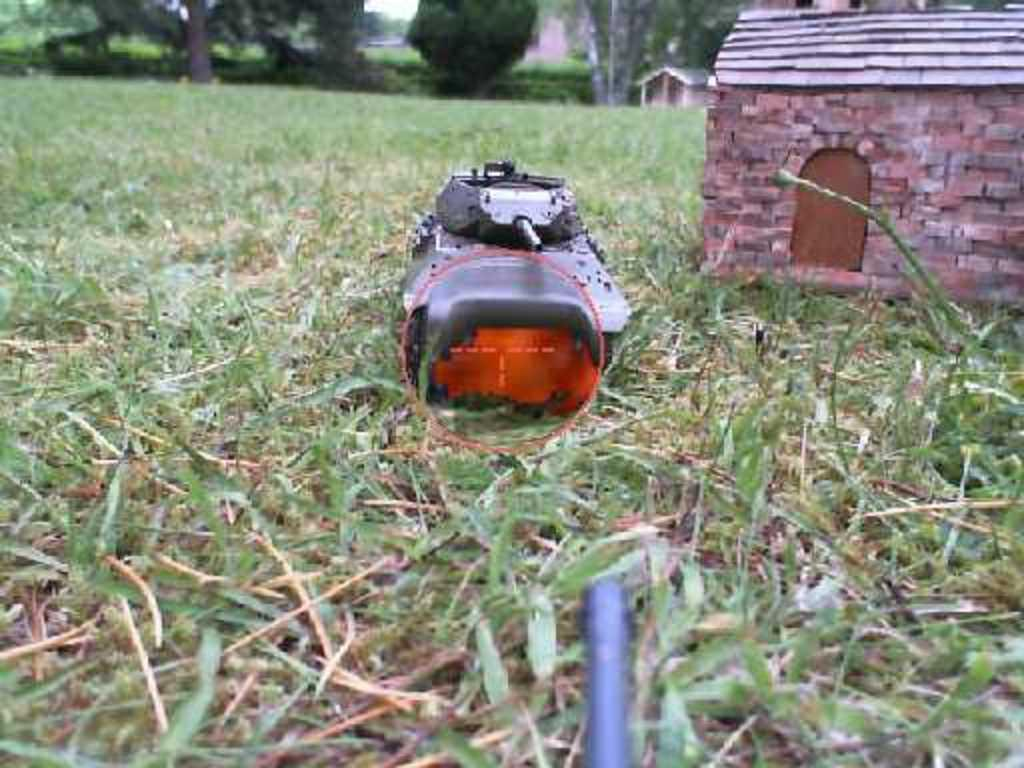Tank: (394, 156, 636, 414)
